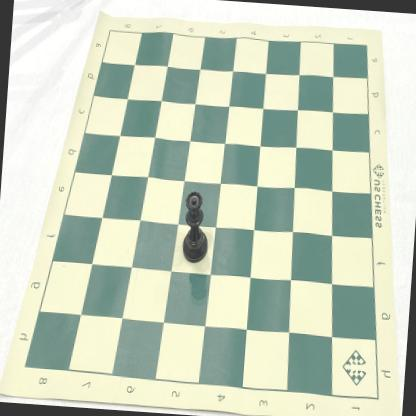black-queen: (181, 191, 212, 266)
